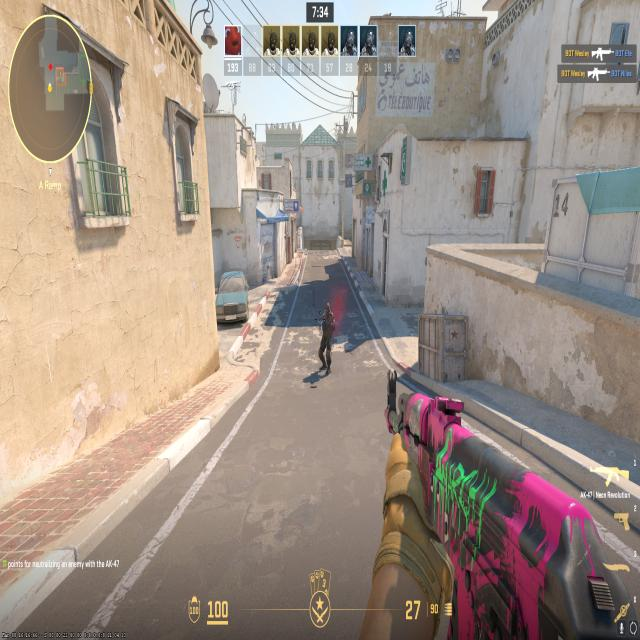ct: (308, 295, 342, 381)
